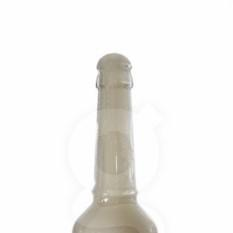beer: (69, 53, 159, 233)
